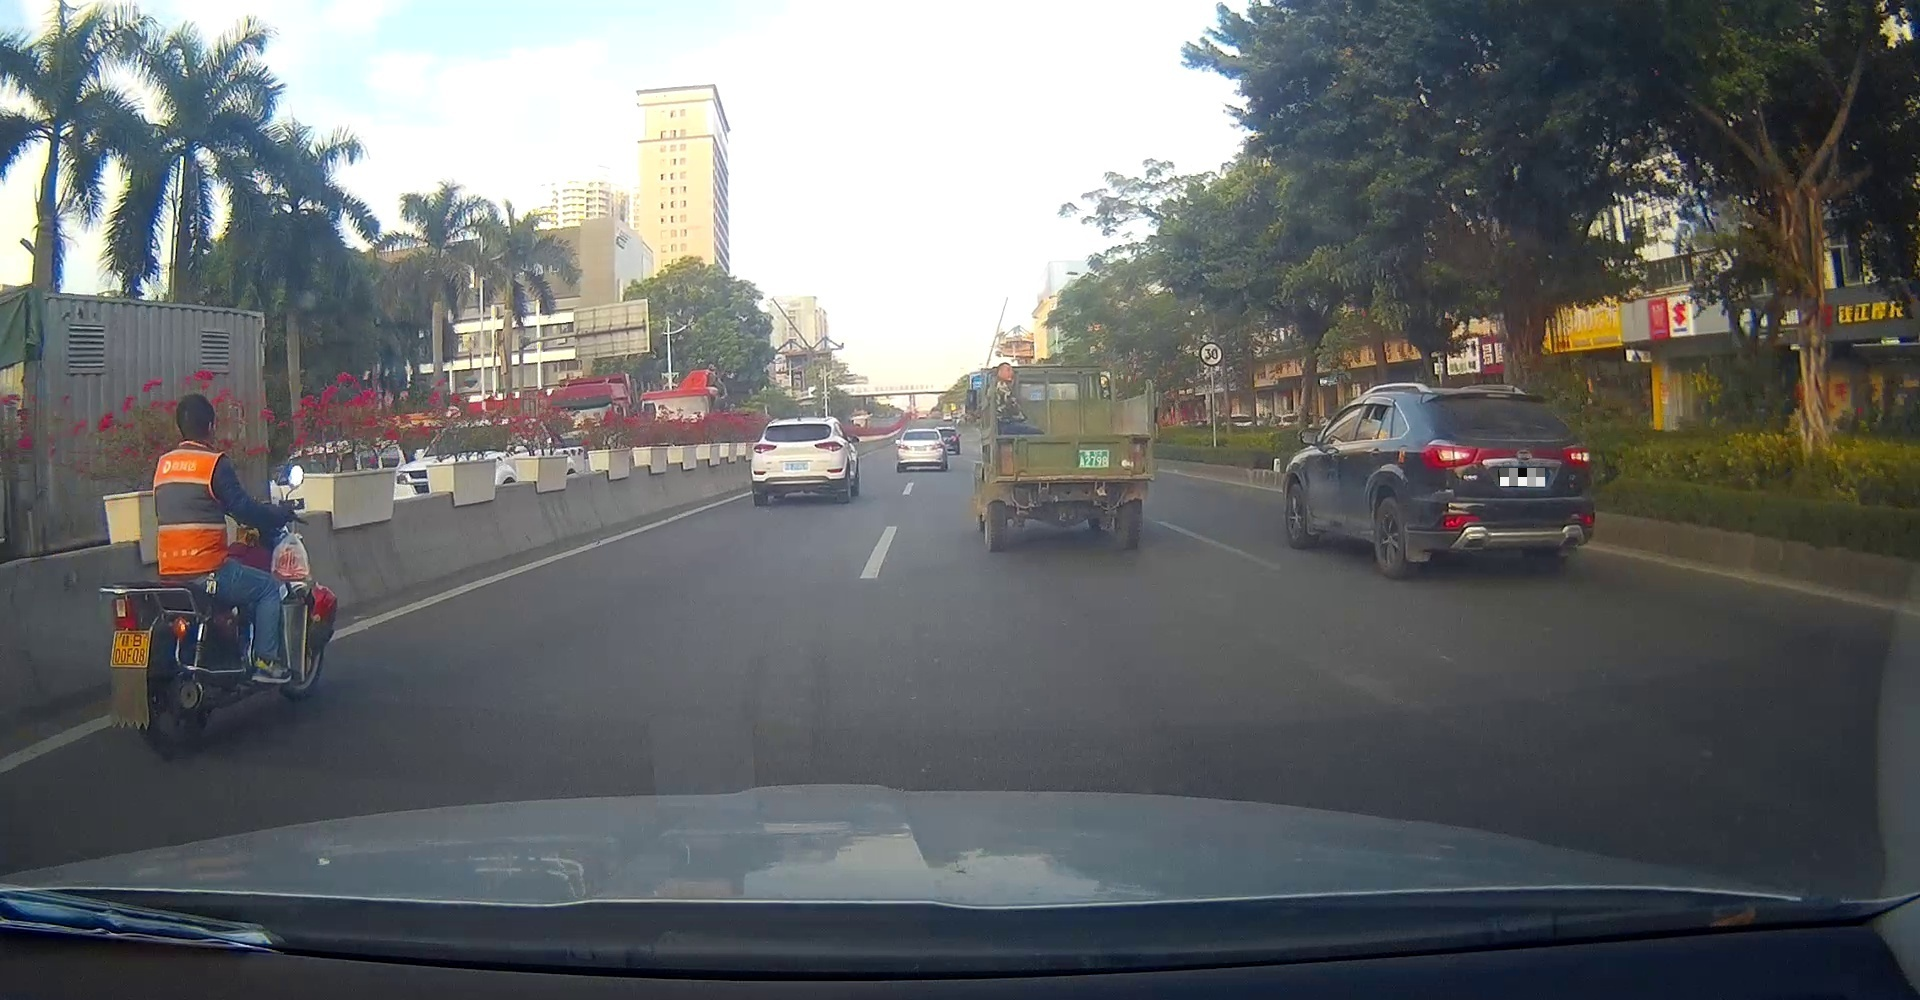L_light: (1421, 439, 1477, 468), (753, 444, 777, 454), (898, 444, 910, 451)
R_light: (1563, 442, 1590, 467), (813, 440, 843, 452), (931, 443, 943, 449)
T_light: (1482, 397, 1506, 404), (792, 424, 806, 428), (917, 431, 924, 433)
day-no: (1418, 390, 1595, 579), (750, 418, 844, 505), (897, 429, 945, 472)
plate_1: (1500, 468, 1545, 487)
